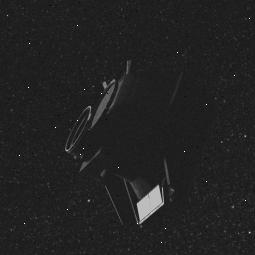cheops: (64, 70, 228, 235)
